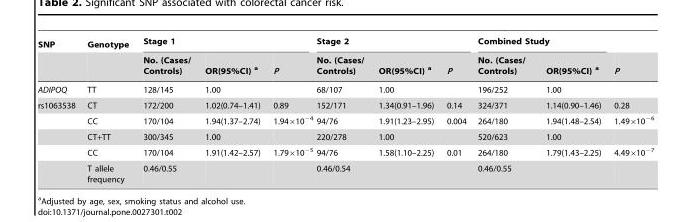table: (37, 36, 653, 183)
table column: (534, 36, 606, 183), (370, 36, 439, 183), (197, 36, 265, 183), (471, 36, 534, 183), (135, 36, 197, 183), (314, 36, 370, 183), (80, 36, 135, 183), (265, 36, 314, 183), (606, 36, 653, 183), (37, 36, 80, 183), (439, 36, 471, 183)
table column header: (37, 36, 653, 80)
table row: (37, 52, 653, 80), (37, 160, 653, 183), (37, 80, 653, 97), (37, 36, 653, 52), (37, 112, 653, 128), (37, 128, 653, 144), (37, 144, 653, 160), (37, 97, 653, 112)
table spanning cell: (37, 97, 80, 183), (135, 36, 314, 52), (314, 36, 471, 52), (80, 36, 135, 80), (471, 36, 606, 52), (606, 36, 653, 80), (37, 36, 80, 80)
